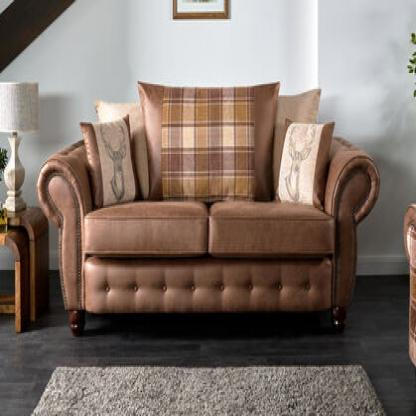Sofa: (34, 73, 383, 341)
